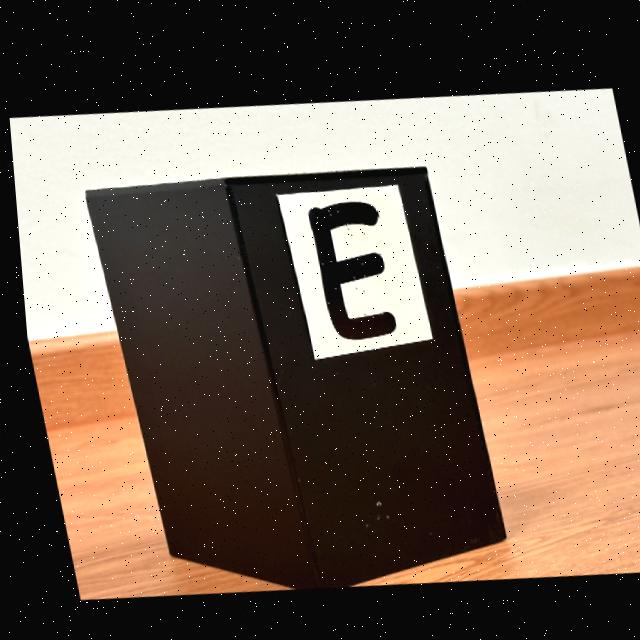E: (305, 196, 392, 334)
